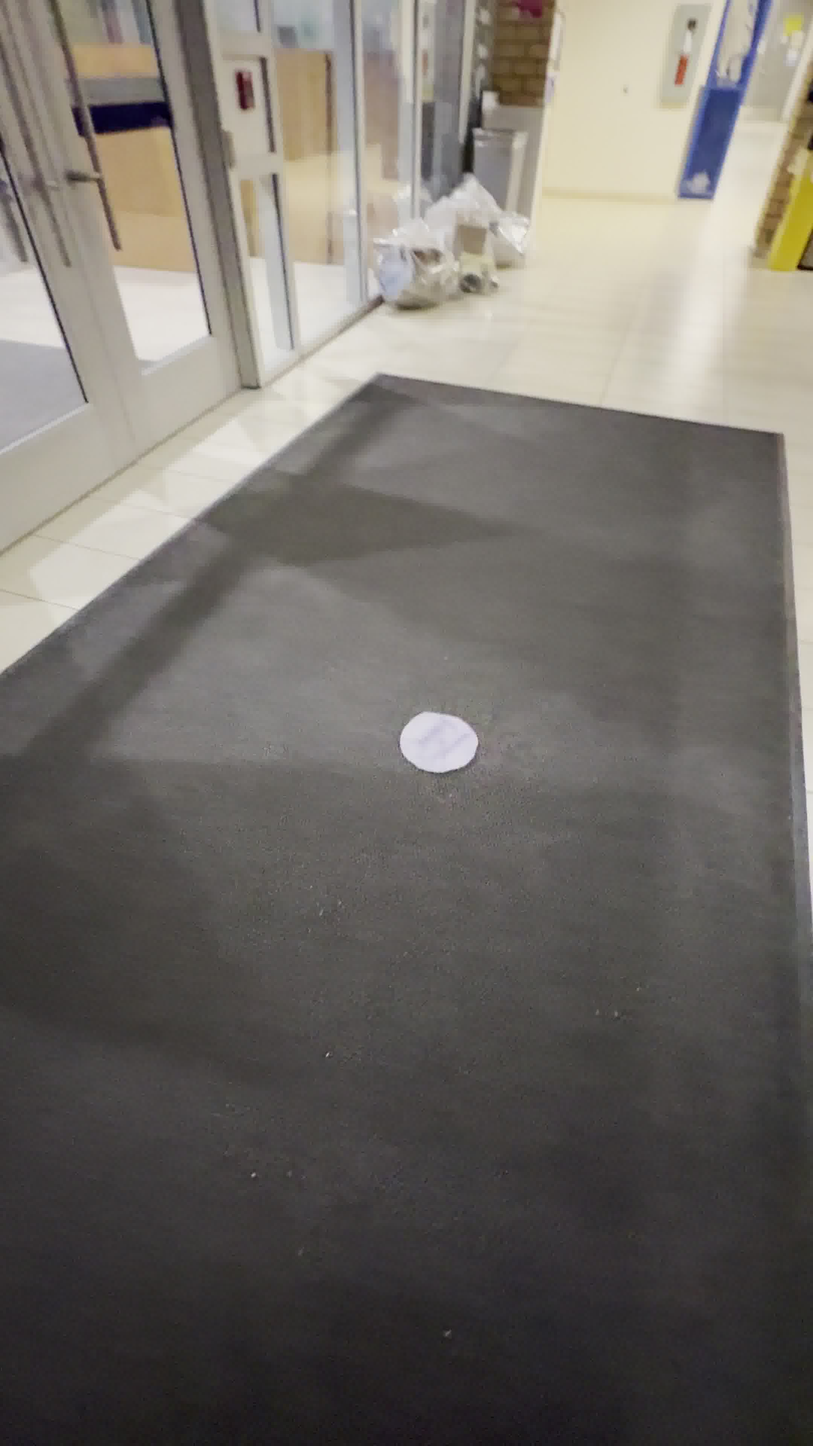Target: (399, 711, 479, 773)
